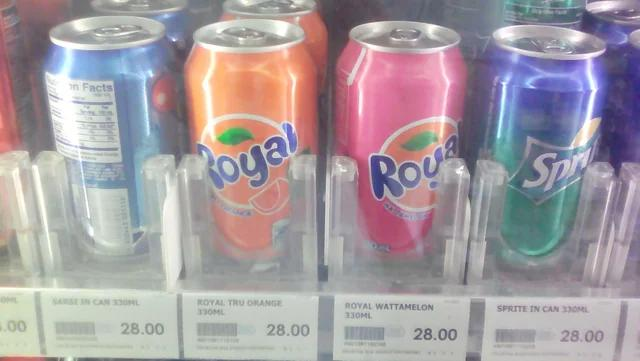can: (332, 20, 467, 290), (184, 18, 324, 278), (44, 16, 182, 279), (470, 25, 606, 277), (220, 0, 327, 92), (582, 0, 639, 171), (89, 0, 192, 70)
